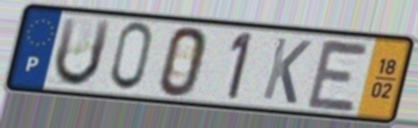0: (156, 24, 209, 99), (107, 19, 155, 95)
1: (226, 30, 254, 103)
E: (304, 36, 374, 115)
K: (259, 34, 314, 107)
U: (51, 15, 115, 90)
